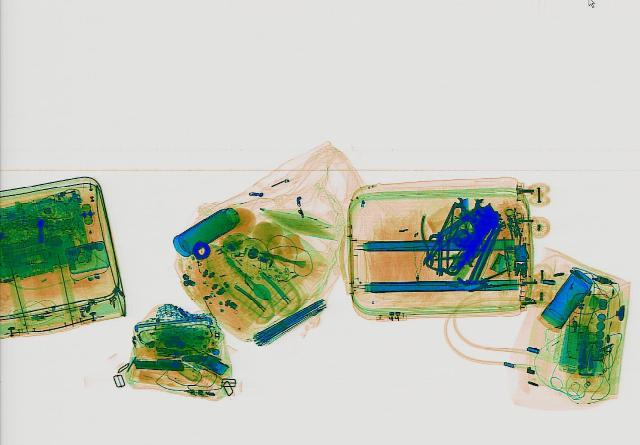Pliers: (408, 211, 459, 266)
Wrench: (422, 212, 473, 245), (448, 196, 479, 221)
